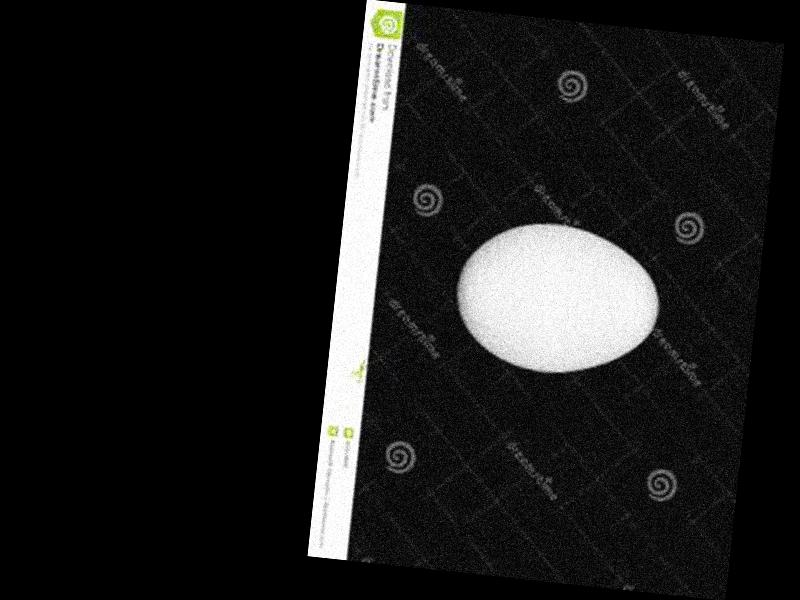Eggs: (450, 216, 664, 386)
